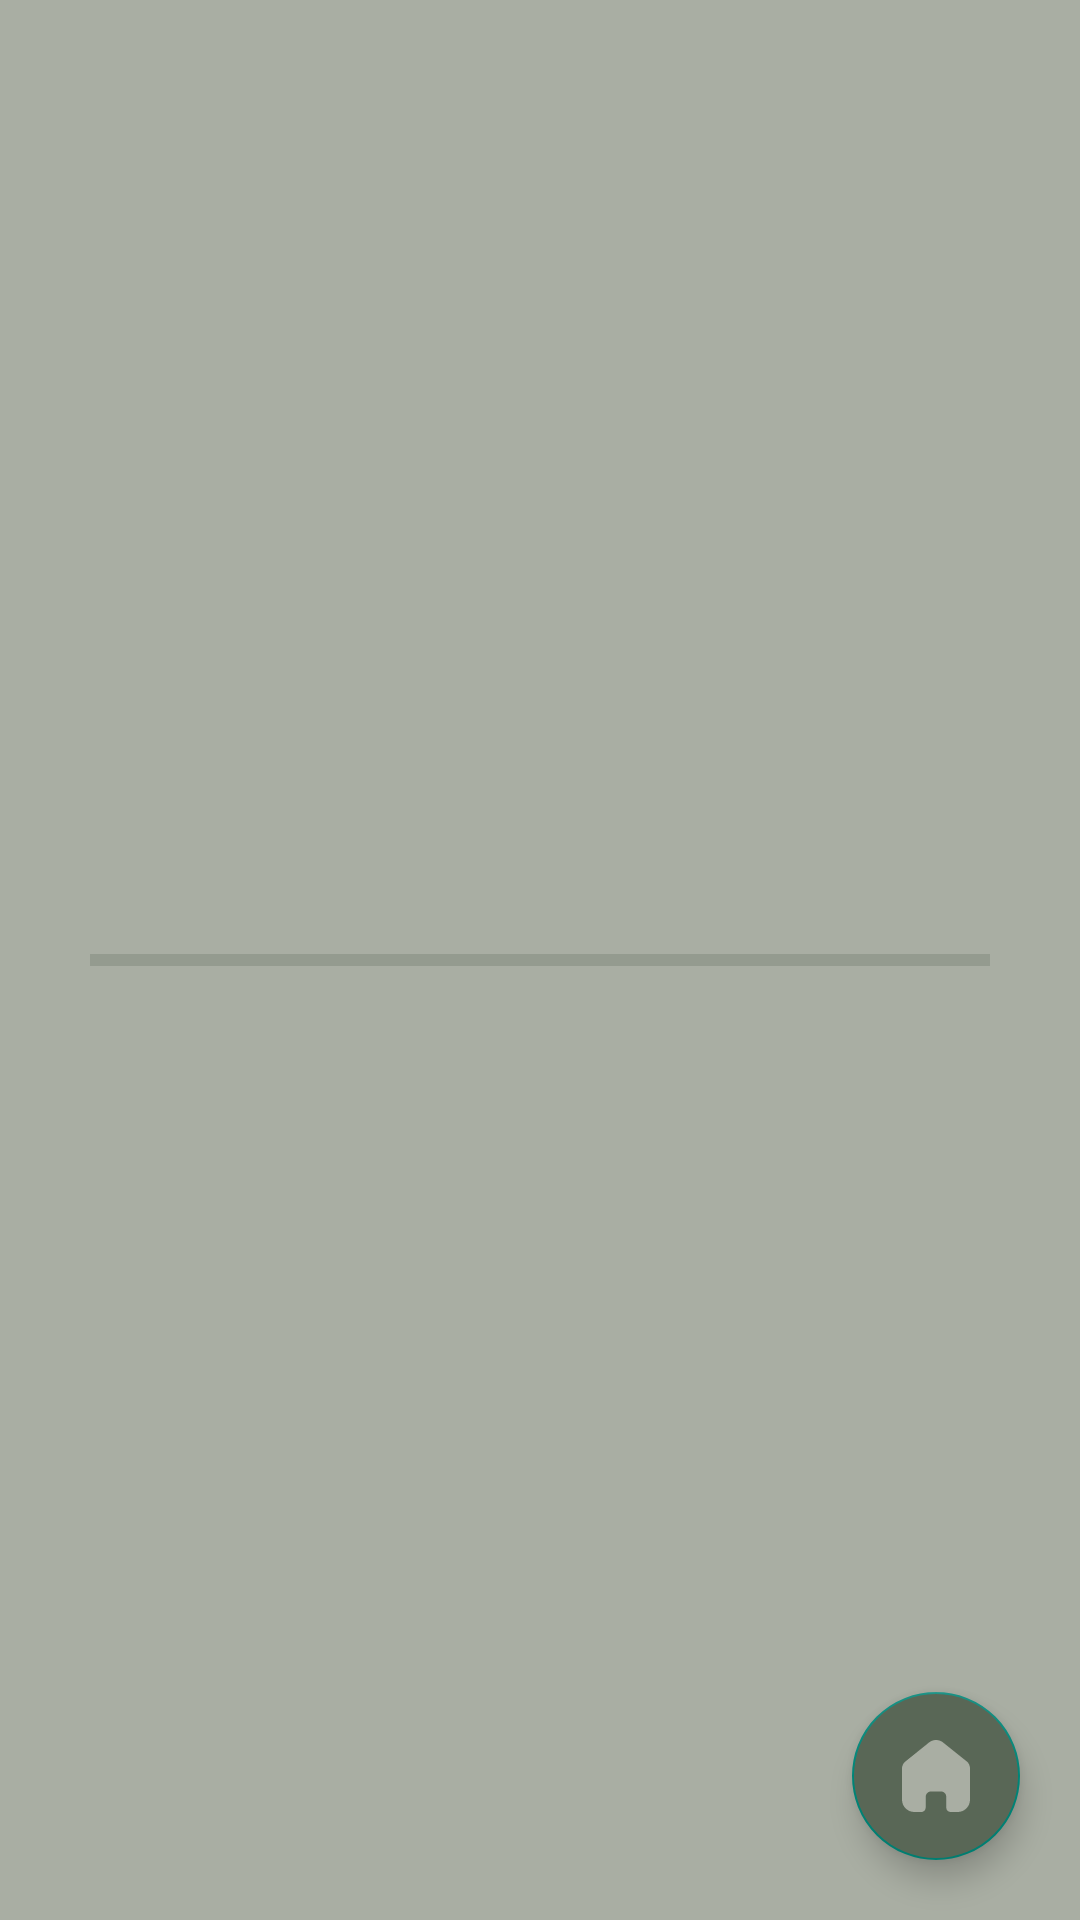

Screen size 1080 × 1920. Icon name, then its box in pixels as [x1, y1, x2, y2]:
bottom home: [852, 1692, 1020, 1860]
